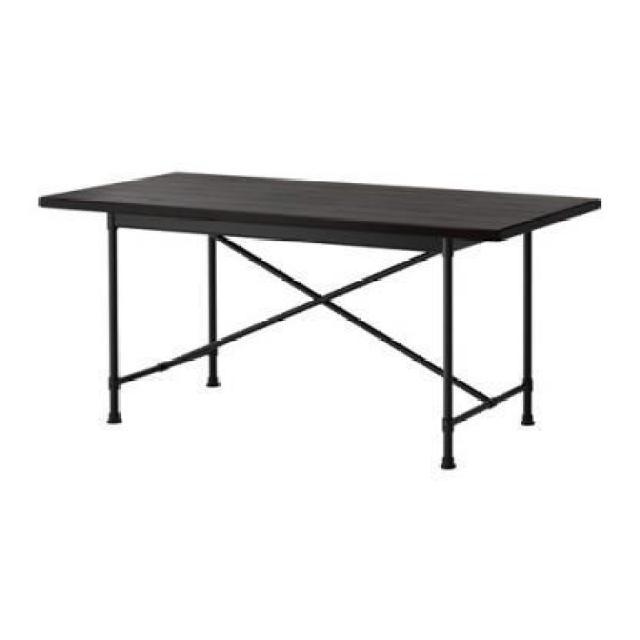tables: (37, 169, 600, 469)
